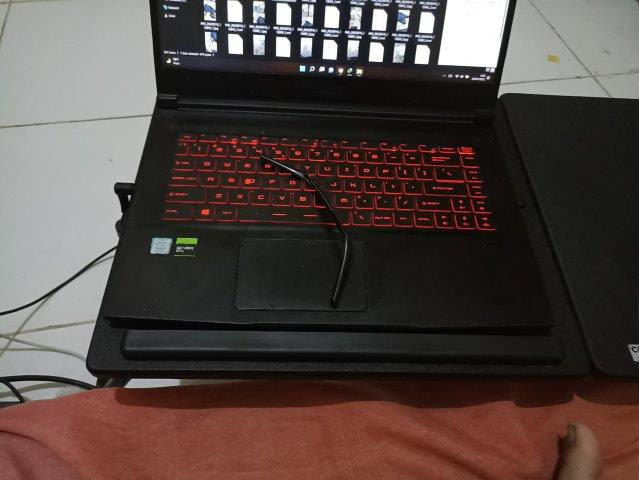sedotan: (261, 154, 352, 306)
